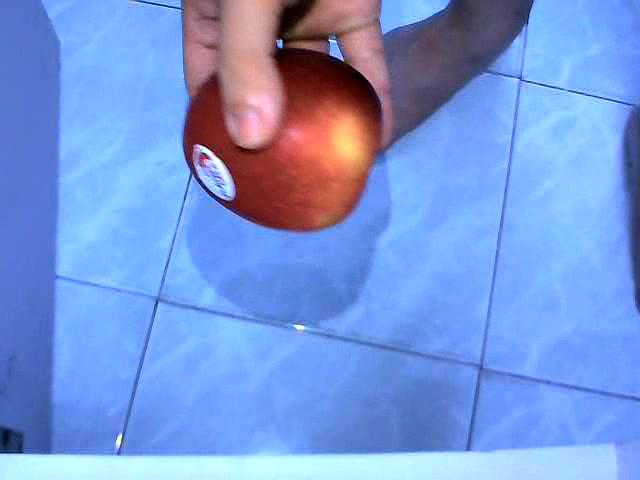apple: (181, 45, 384, 234)
